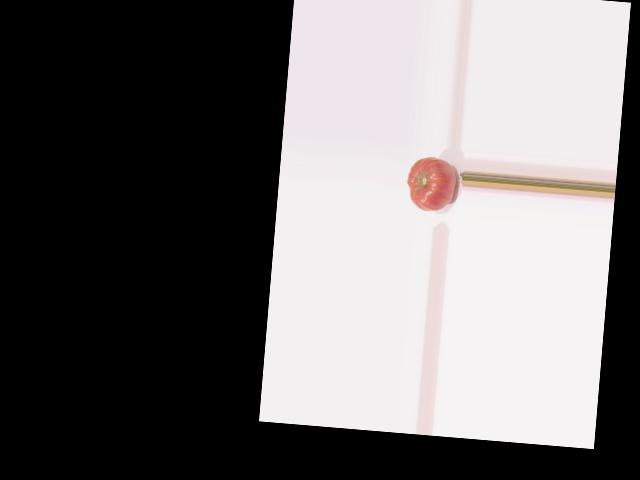tomato: (405, 155, 457, 212)
